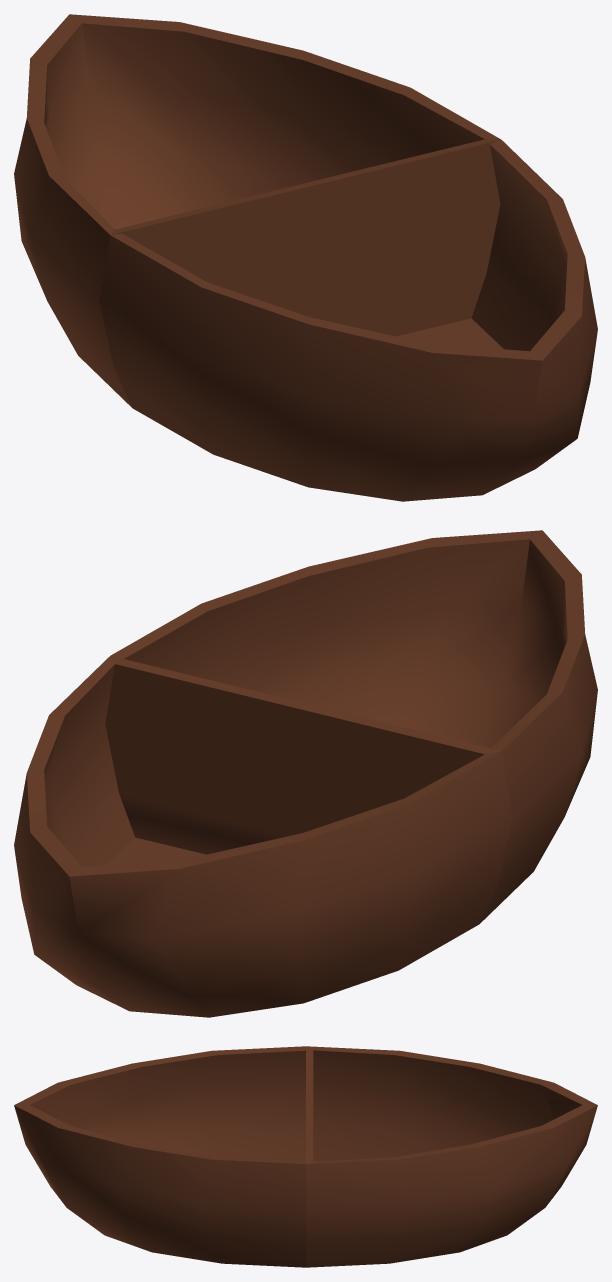
Rendered from Boat.fbx.
The picture shows the model from 3 angles, top to bottom: view 1: azimuth 30°, elevation 25°; view 2: azimuth 150°, elevation 25°; view 3: azimuth 270°, elevation 25°; orthographic projection. The views are drawn at different scales.
Parts seen in each view (by area): view 1: Cube.084; view 2: Cube.084; view 3: Cube.084.
Part boxes in pixels (left/top/right/bottom): Cube.084: left=14, top=14, right=597, bottom=501; Cube.084: left=14, top=530, right=597, bottom=1017; Cube.084: left=14, top=1046, right=597, bottom=1267.
Size of the model in its own units: 253 by 105 by 502.
